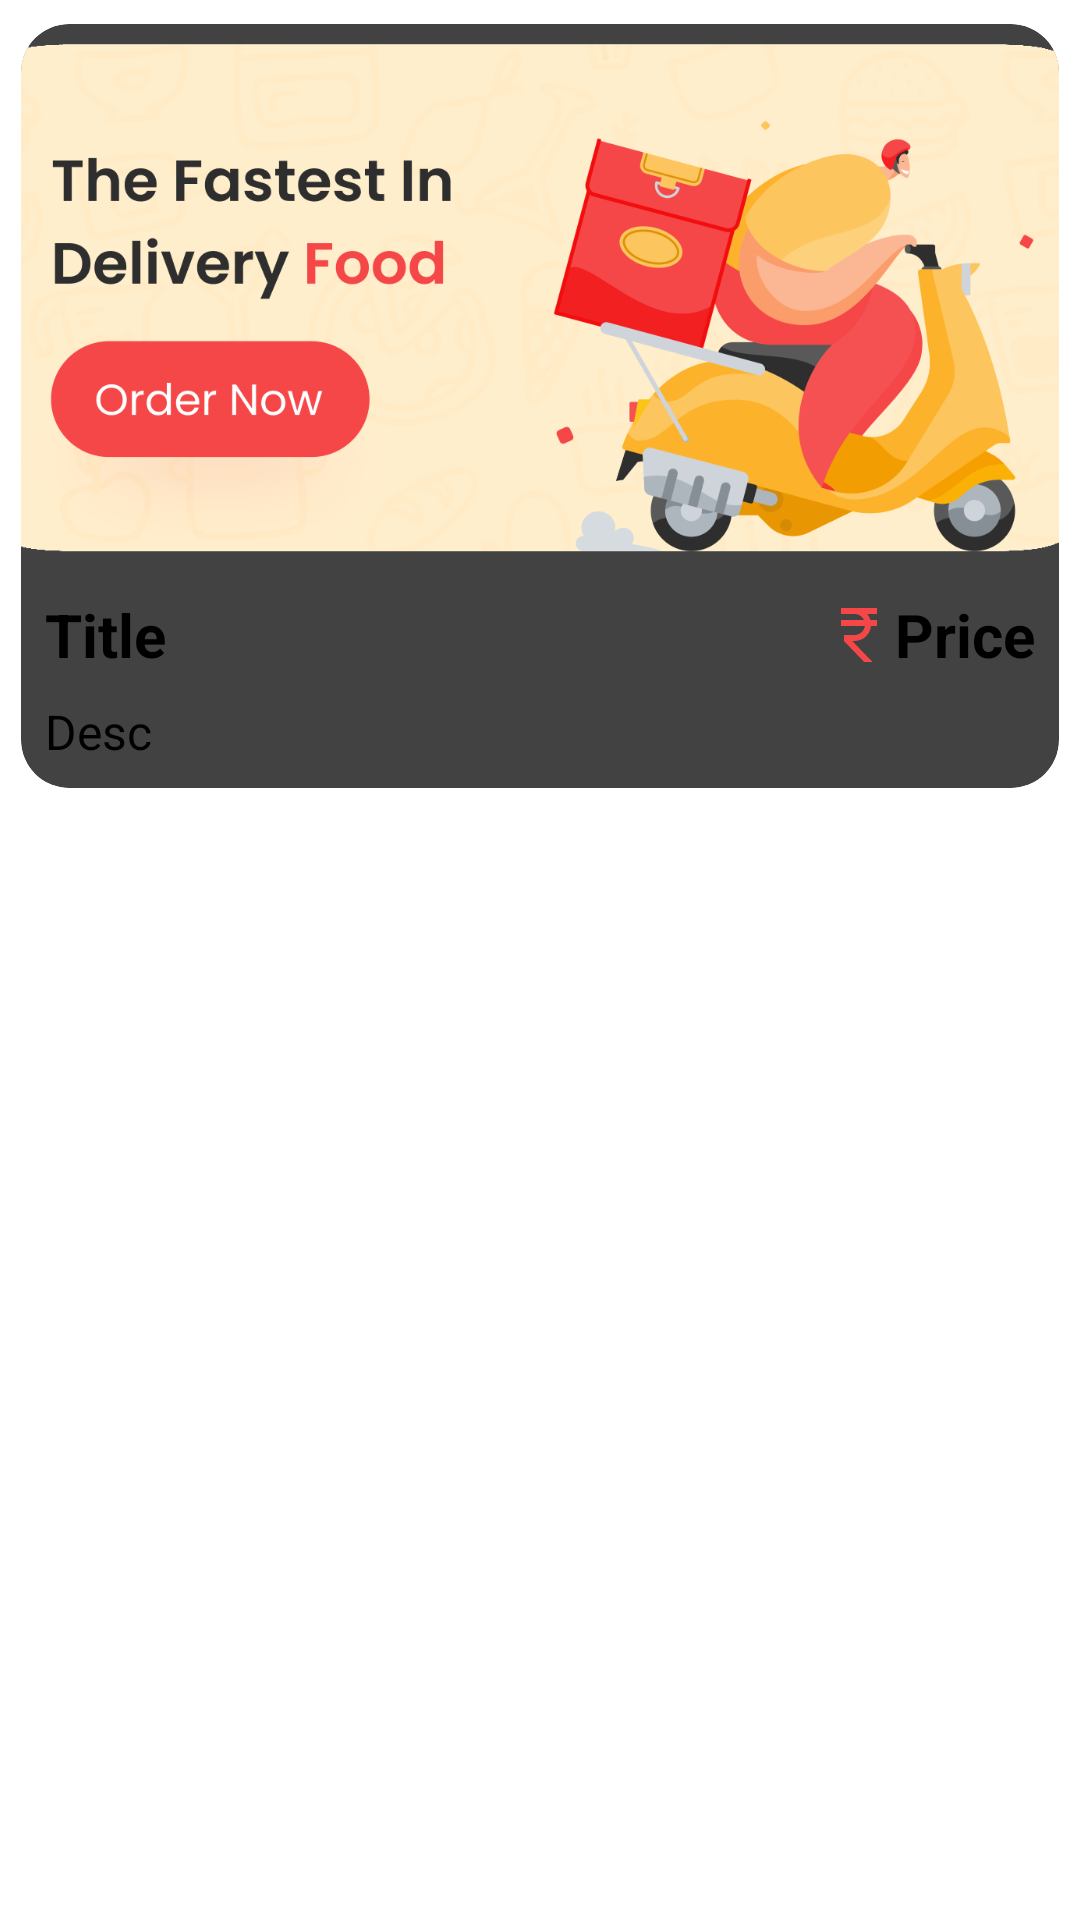

Where to tap for icons on this 1080px x 1920px app screen, as (x,y):
rupee: (859,635)
